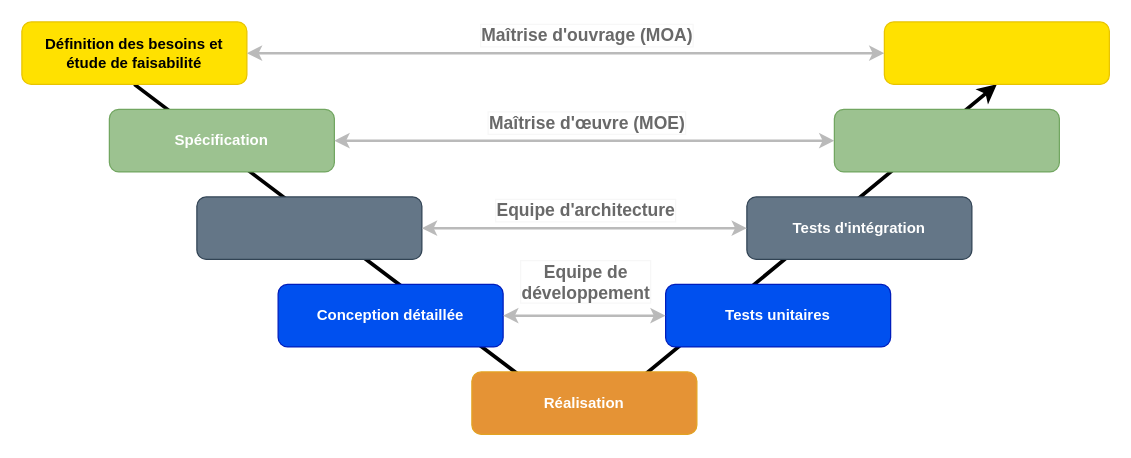
Image size: 1131x458. Some labels were removed from this diagram. The shapes that lost their labels are listed below. From the top down, each one's box as (x1, y1, x2, y2) in pixels, then its label:
(883, 21, 1109, 84): Recette
(833, 108, 1059, 172): Validation
(196, 196, 422, 259): Conception générale
